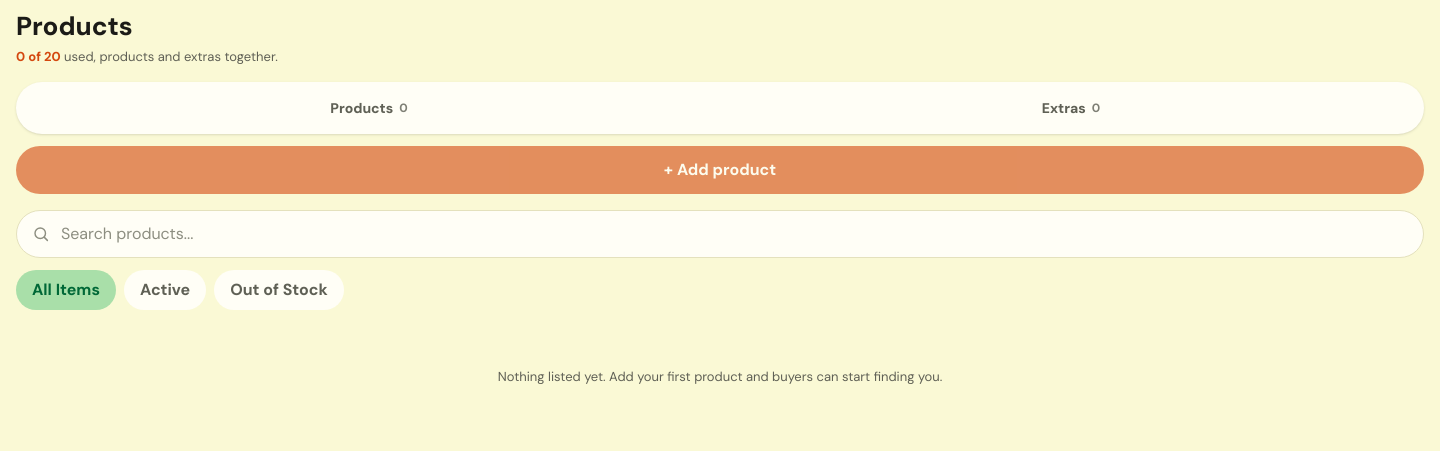
Scenario: Products › still shows the button to an unapproved vendor, and says why it cannot be used
Step 1. Click the button "+ Add product" → (720, 170), box [16,146,1424,194]
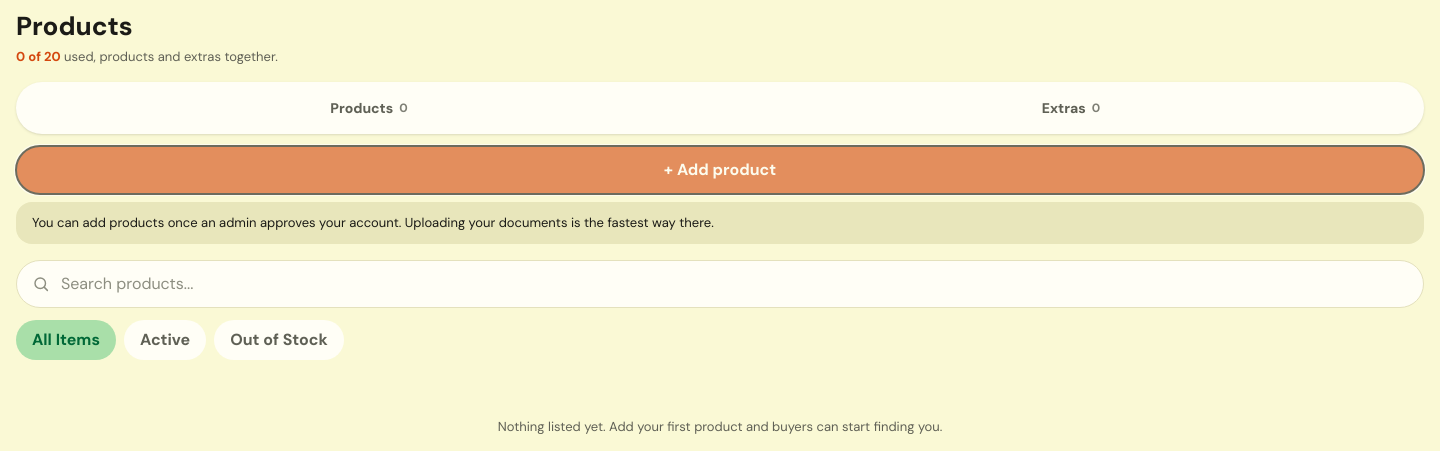
Check: the message shows "approves your account", box [32,214,714,231]
